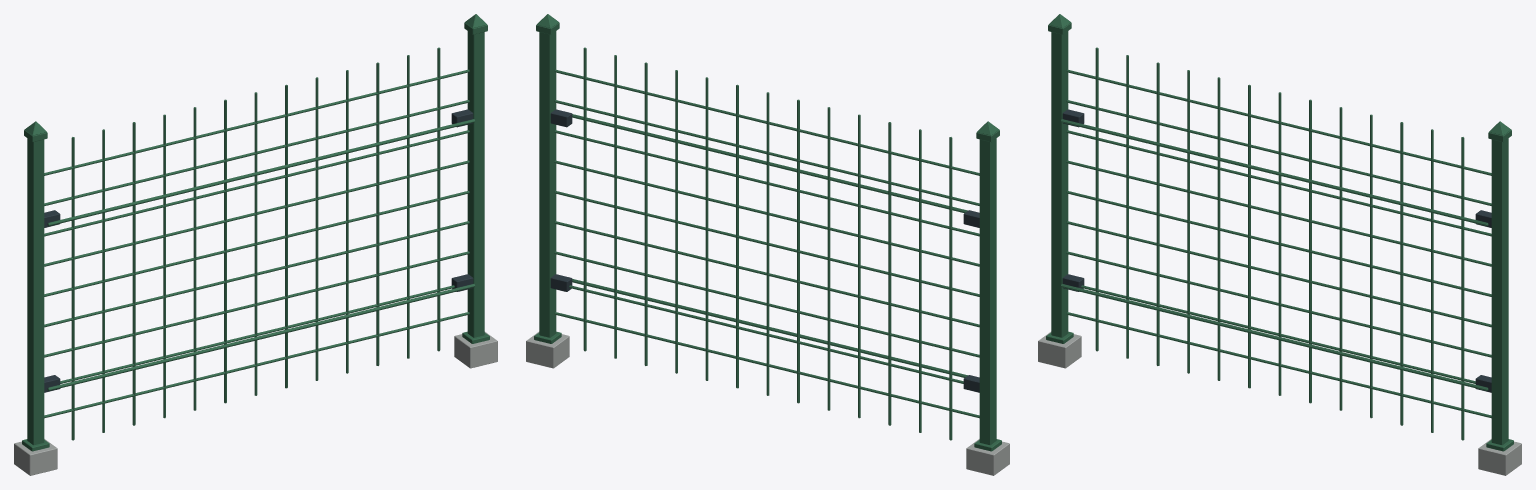
File: b19_welded_mesh_security_fence.glb
The picture shows the model from 3 angles, left to right: view 1: azimuth 30°, elevation 25°; view 2: azimuth 150°, elevation 25°; view 3: azimuth 330°, elevation 25°; orthographic projection.
Visible parts, largest first — view 1: b19_welded_mesh_security_fence; view 2: b19_welded_mesh_security_fence; view 3: b19_welded_mesh_security_fence.
Boxes of the visible parts, x1,y1,x2,y2 form: b19_welded_mesh_security_fence: (14,14,497,475); b19_welded_mesh_security_fence: (526,14,1009,475); b19_welded_mesh_security_fence: (1038,14,1521,475).
Bounding box in the file's own units: 2.77 × 1.95 × 0.165.
